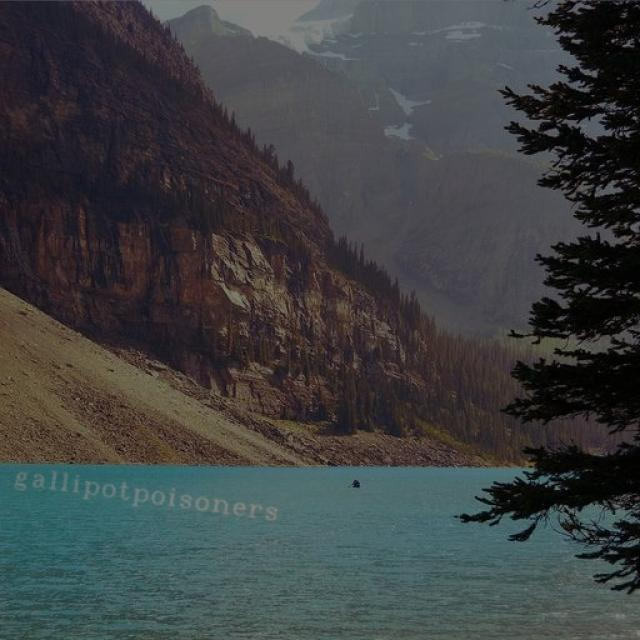watermark: (6, 464, 296, 524)
